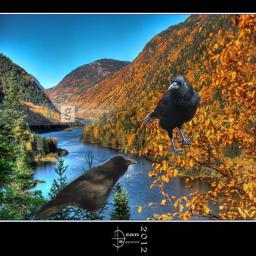Crow: (34, 154, 137, 218), (137, 72, 201, 159)
